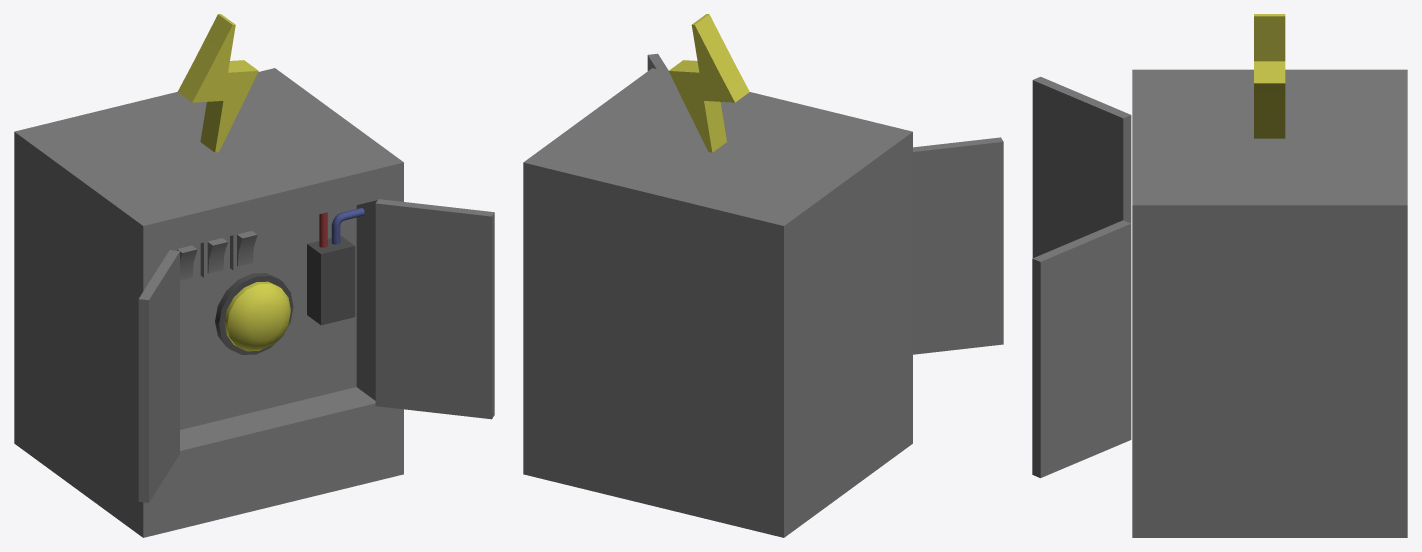
Rendered from aruhula_hatuden.fbx.
3 views of the same model, side by side, from view 1: azimuth 30°, elevation 25°; view 2: azimuth 150°, elevation 25°; view 3: azimuth 270°, elevation 25° (orthographic). The views are drawn at different scales.
Visible parts, largest first — view 1: pCube2, pCube11, pCube12, pPlane1, pCube10, pCylinder2, pCylinder1, pCube6, pCube8; view 2: pCube2, pCube12, pPlane1; view 3: pCube2, pCube11, pCube12, pPlane1.
Part boxes in pixels (x1=…): pCube2: x1=14, y1=68, x2=403, y2=537; pCube11: x1=375, y1=199, x2=494, y2=419; pCube12: x1=138, y1=250, x2=179, y2=502; pPlane1: x1=177, y1=14, x2=258, y2=152; pCube10: x1=307, y1=235, x2=355, y2=325; pCylinder2: x1=224, y1=281, x2=290, y2=351; pCylinder1: x1=215, y1=273, x2=293, y2=354; pCube6: x1=207, y1=238, x2=227, y2=273; pCube8: x1=237, y1=231, x2=257, y2=266; pCube2: x1=523, y1=68, x2=912, y2=537; pCube12: x1=913, y1=137, x2=1003, y2=354; pPlane1: x1=669, y1=14, x2=749, y2=152; pCube2: x1=1132, y1=69, x2=1407, y2=537; pCube11: x1=1032, y1=220, x2=1131, y2=477; pCube12: x1=1032, y1=76, x2=1131, y2=257; pPlane1: x1=1254, y1=14, x2=1285, y2=138.
Size of the model in its own units: 9.56 by 11.17 by 8.18.
